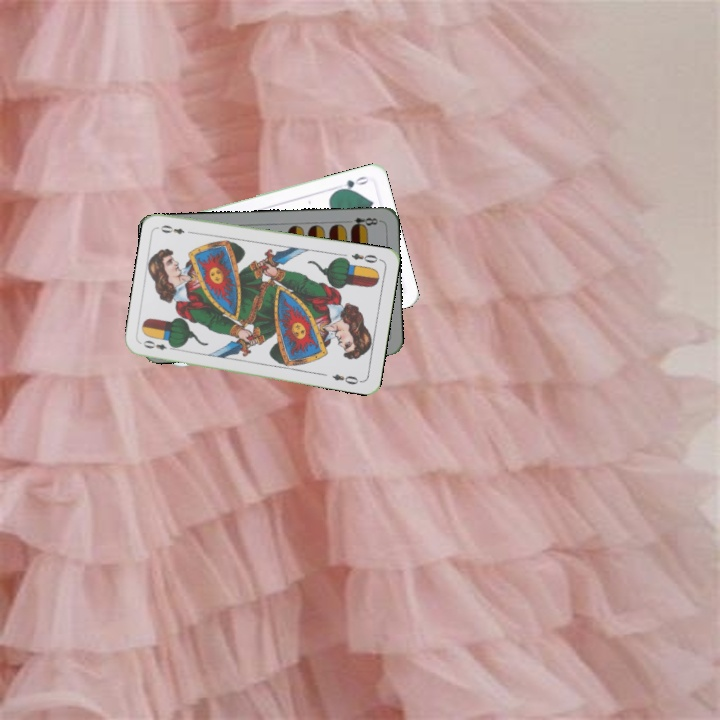E8: (347, 213, 382, 231)
EO: (139, 336, 179, 353), (347, 249, 383, 266)
GO: (333, 172, 372, 194)
